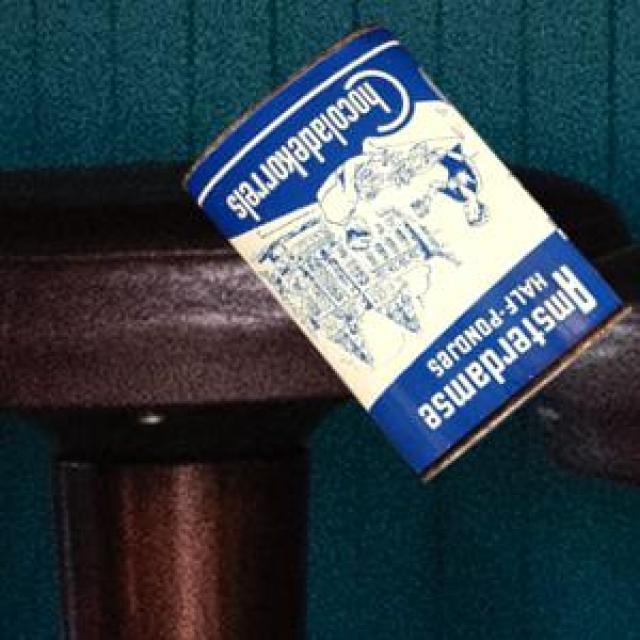logam: (180, 20, 628, 479)
